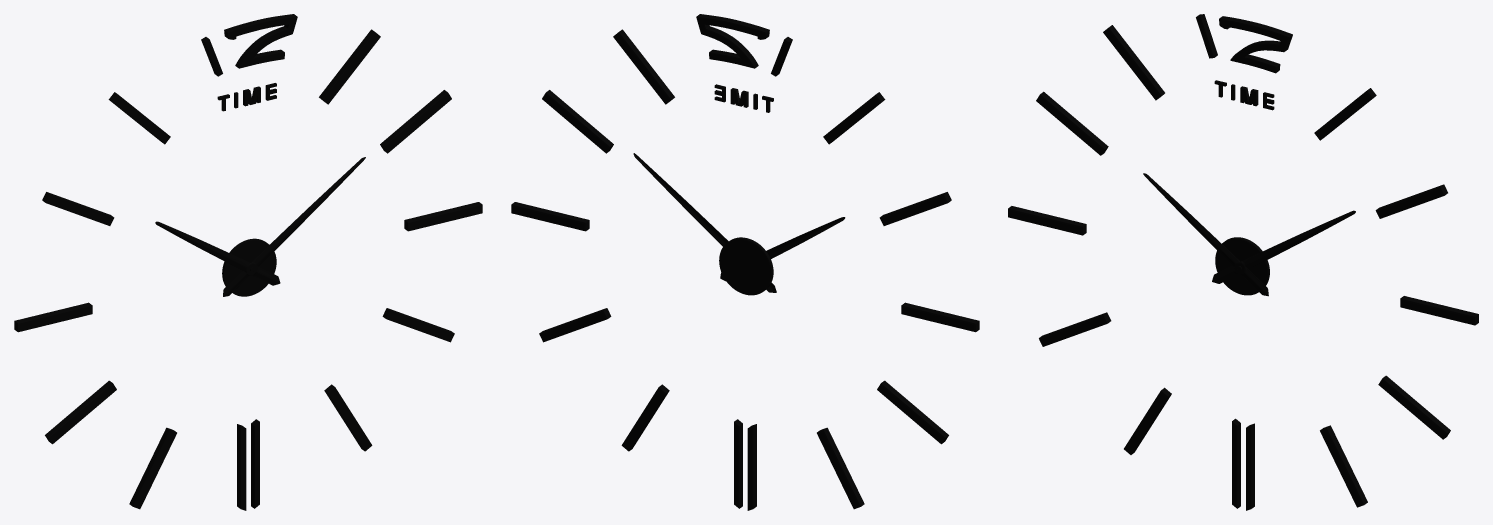
Rendered from clock.glb.
The picture shows the model from 3 angles, left to right: view 1: azimuth 30°, elevation 25°; view 2: azimuth 150°, elevation 25°; view 3: azimuth 330°, elevation 25°; orthographic projection.
Parts seen in each view (by area): view 1: mdlwc_2_symbols, mdlwc_2_pointer_plate, mdlwc_2_min_pointer, mdlwc_2_hour_pointer; view 2: mdlwc_2_symbols, mdlwc_2_pointer_plate, mdlwc_2_min_pointer, mdlwc_2_hour_pointer; view 3: mdlwc_2_symbols, mdlwc_2_pointer_plate, mdlwc_2_min_pointer, mdlwc_2_hour_pointer.
Boxes of the visible parts, bbox=[...] form: mdlwc_2_symbols: bbox=[14, 14, 482, 510]; mdlwc_2_pointer_plate: bbox=[222, 238, 276, 296]; mdlwc_2_min_pointer: bbox=[223, 157, 365, 296]; mdlwc_2_hour_pointer: bbox=[155, 221, 280, 285]; mdlwc_2_symbols: bbox=[511, 14, 979, 510]; mdlwc_2_pointer_plate: bbox=[719, 237, 773, 295]; mdlwc_2_min_pointer: bbox=[633, 153, 776, 292]; mdlwc_2_hour_pointer: bbox=[720, 217, 845, 281]; mdlwc_2_symbols: bbox=[1008, 14, 1478, 510]; mdlwc_2_pointer_plate: bbox=[1215, 237, 1269, 295]; mdlwc_2_min_pointer: bbox=[1212, 210, 1355, 283]; mdlwc_2_hour_pointer: bbox=[1143, 173, 1268, 296].
Bounding box in the file's own units: 1.2 × 1.2 × 0.0277.
2 materials, 2 textured.
